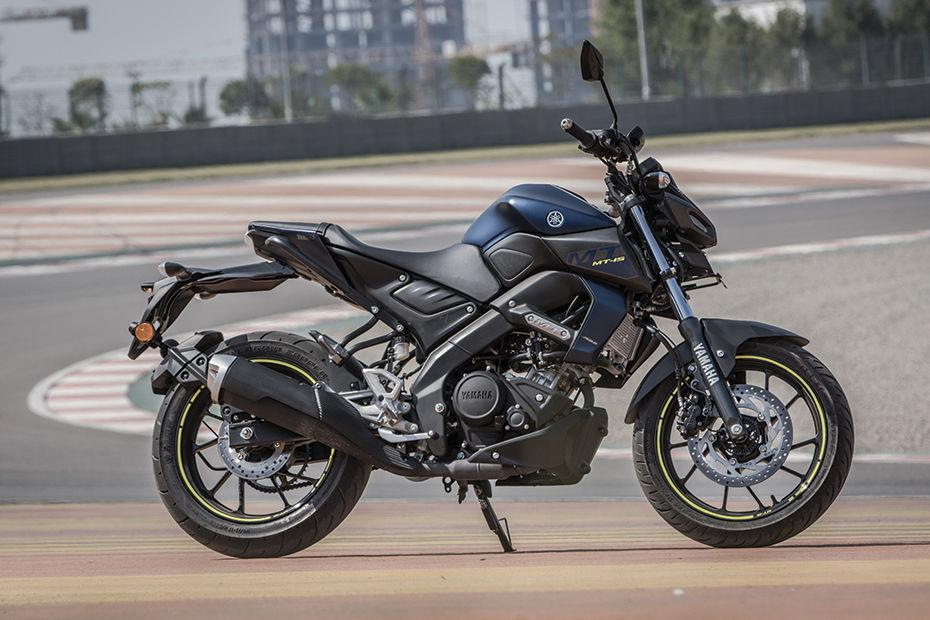bike: (126, 37, 859, 565)
